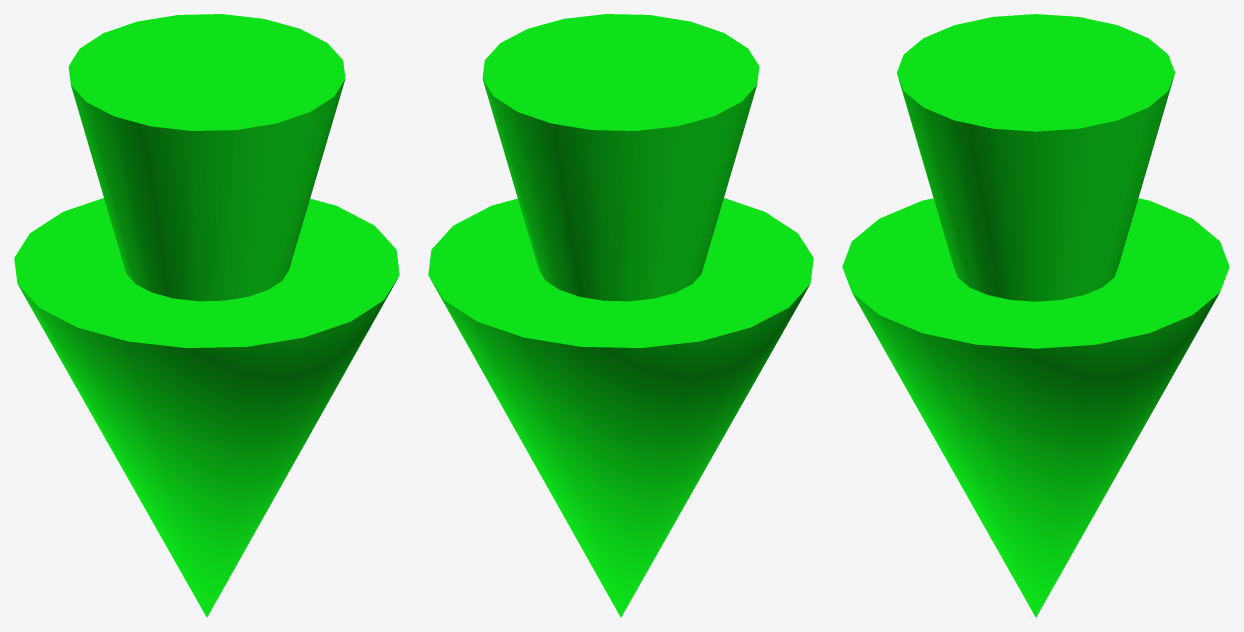
The model's file is arrow.obj.
3 renders of one model, left to right at view 1: azimuth 30°, elevation 25°; view 2: azimuth 150°, elevation 25°; view 3: azimuth 270°, elevation 25°, orthographic.
Parts seen in each view (by area): view 1: pCylinder2; view 2: pCylinder2; view 3: pCylinder2.
Part boxes in pixels (x1=…): pCylinder2: x1=14, y1=14, x2=399, y2=617; pCylinder2: x1=428, y1=14, x2=813, y2=617; pCylinder2: x1=842, y1=14, x2=1229, y2=617.
Bounding box in the file's own units: 2 × 3.11 × 2.
